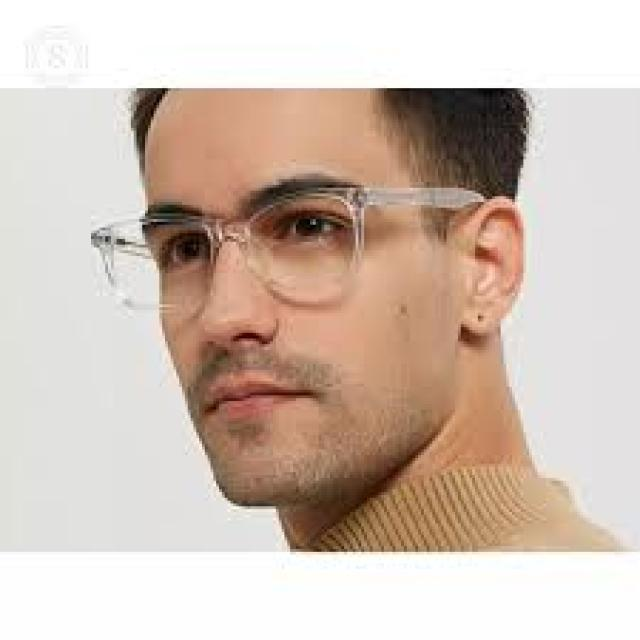specticles: (65, 186, 528, 314)
